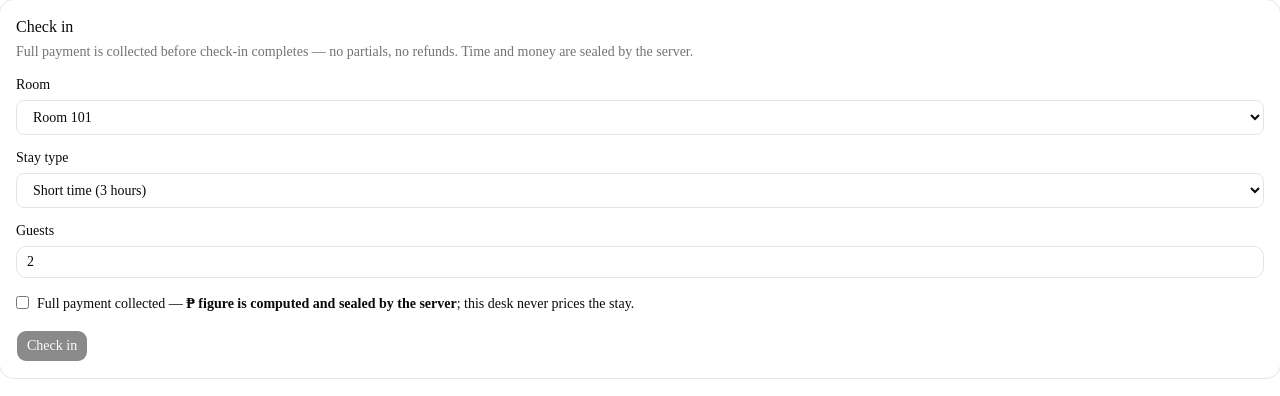
Test case: CheckInForm — the payment-confirmation gate (vault-10) › durably queues the money-affecting write when the desk cannot reach the server
Click the checkbox with test id "check-in-payment". click: (22, 302)
box: [16,296,29,309]
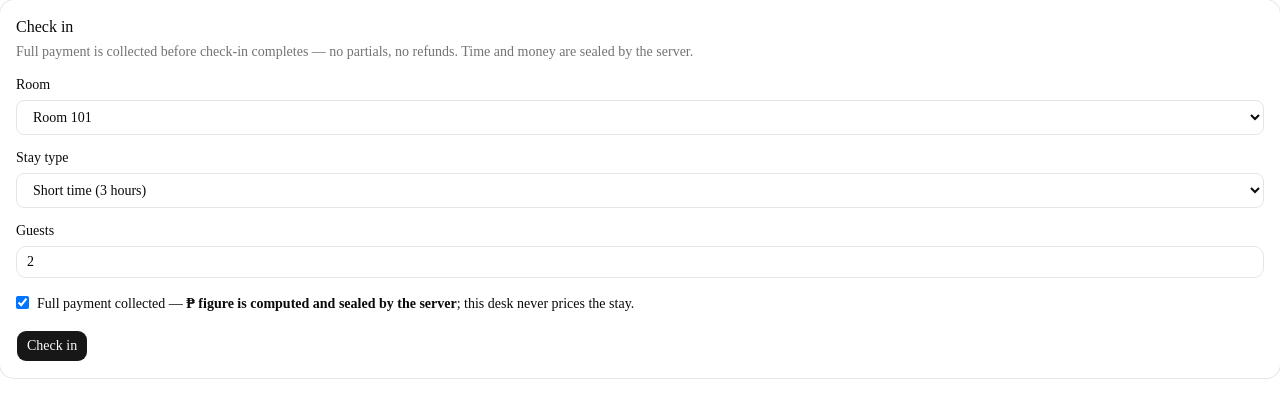
Click the button with test id "check-in-submit". click: (52, 346)
box: [16,330,88,362]
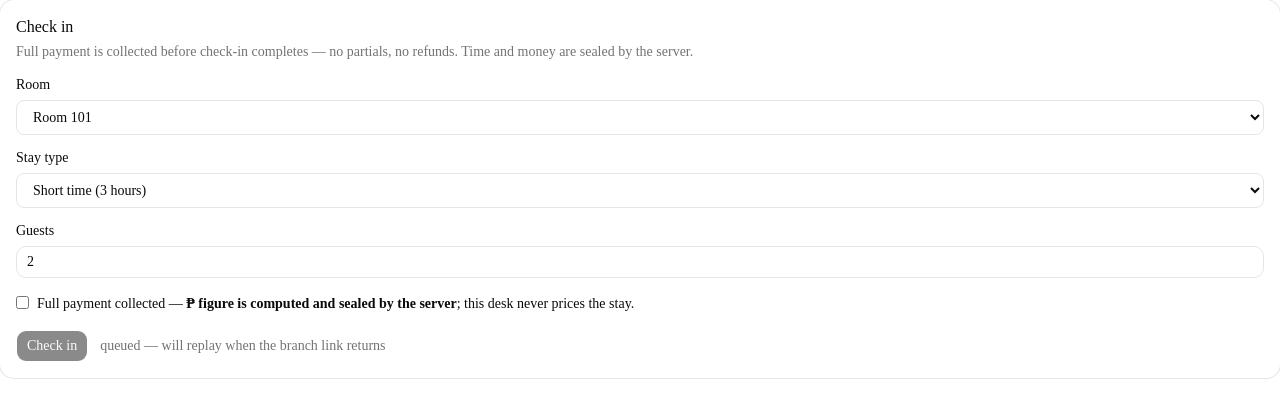
Now the text with test id "check-in-status" shows "queued", box [100,338,386,353]
